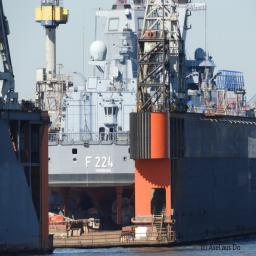Fragata: (31, 2, 196, 201)
